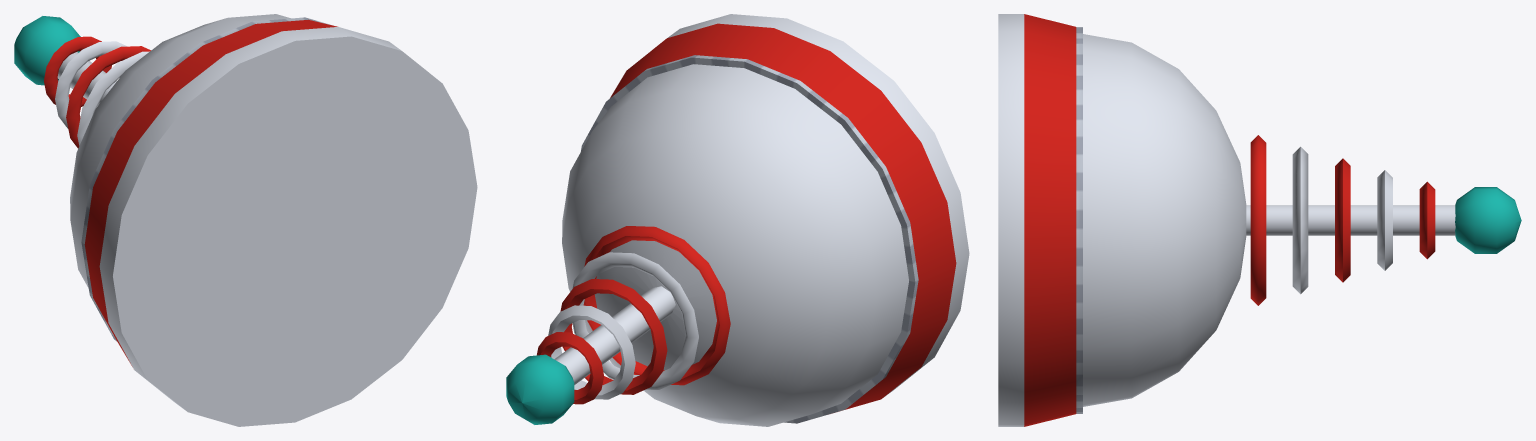
Rendered from guard_shield_generator.obj.
3 renders of one model, left to right at view 1: azimuth 30°, elevation 25°; view 2: azimuth 150°, elevation 25°; view 3: azimuth 270°, elevation 25°, orthographic.
Parts seen in each view (by area): view 1: drum, dome, coil, ball, mast; view 2: dome, drum, coil, ball, mast; view 3: dome, drum, coil, mast, ball.
Boxes of the visible parts, x1,y1,x2,y2 form: drum: (81, 17, 477, 426); dome: (70, 14, 290, 287); coil: (44, 36, 150, 148); ball: (14, 16, 80, 85); mast: (57, 52, 116, 106); dome: (562, 64, 908, 426); drum: (581, 14, 969, 423); coil: (537, 226, 730, 404); ball: (506, 354, 574, 424); mast: (554, 286, 675, 384); dome: (1083, 34, 1246, 406); drum: (998, 14, 1082, 426); coil: (1250, 135, 1435, 305); mast: (1246, 205, 1455, 235); ball: (1455, 187, 1521, 253).
Size of the model in its own units: 6.4 by 6.4 by 8.05.
Materials: 4 (1 with a texture image).
